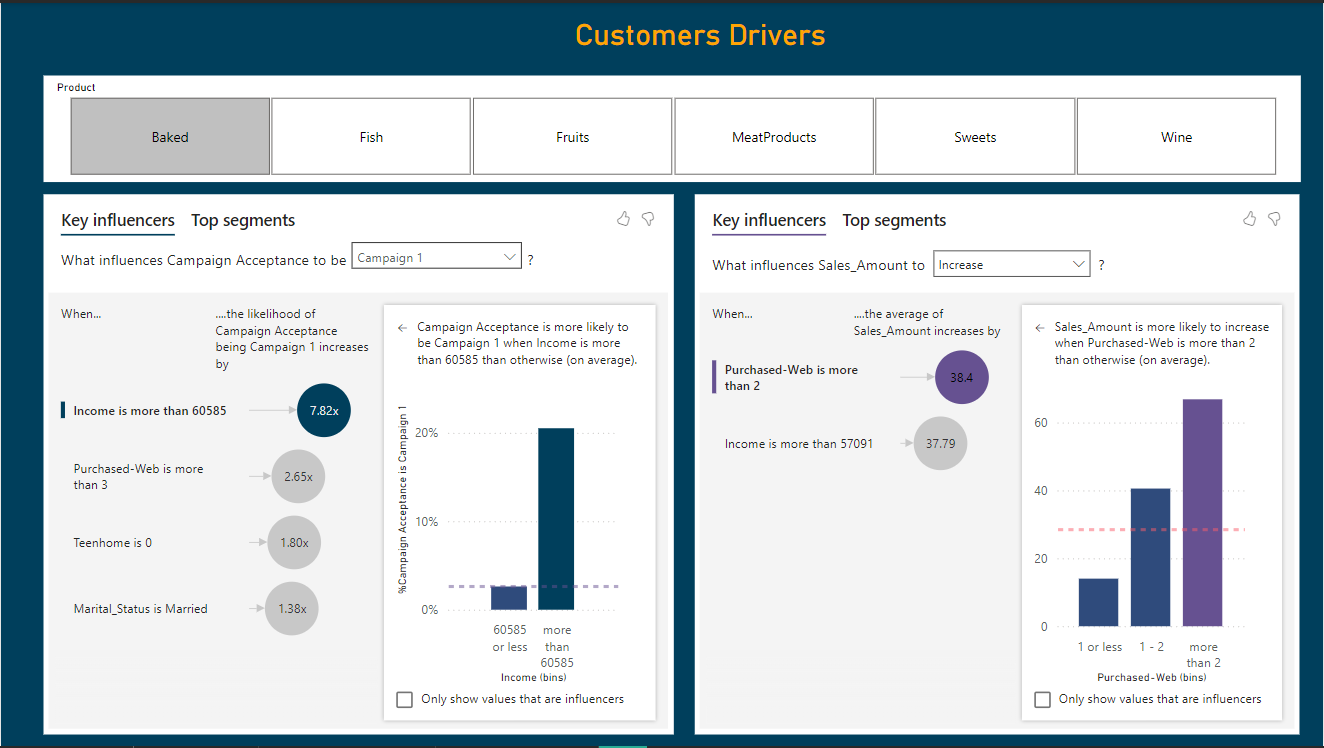

Layout of this report page (visuals, bound fields, positions):
{"tool":"powerbi","page":{"name":"Customer Drives","canvas":[1280,720],"ordinal":2},"visuals":[{"type":"keyDriversVisual","fields":{"Target":["Campaigns.Campaign"],"ExplainBy":["1 2 marketmindz_research_data.Country","1 2 marketmindz_research_data.Education","1 2 marketmindz_research_data.Marital_Status","1 2 marketmindz_research_data.Teenhome","1 2 marketmindz_research_data. Income ","1 2 marketmindz_research_data.Purchased-Web","Sum(1 2 marketmindz_research_data.Age)"]},"box":[41.2,185.2,610.1,522.9],"z":0},{"type":"keyDriversVisual","fields":{"ExplainBy":["1 2 marketmindz_research_data.Age","1 2 marketmindz_research_data.Country","1 2 marketmindz_research_data.Education","1 2 marketmindz_research_data.Marital_Status","1 2 marketmindz_research_data.Teenhome","Products.Product","1 2 marketmindz_research_data. Income ","1 2 marketmindz_research_data.Purchased-Web"],"Target":["Products.Sales_Amount"]},"box":[671.8,185.2,585.9,522.9],"z":1000},{"type":"slicer","fields":{"Values":["Products.Product"]},"box":[41.2,70.2,1217.8,102.9],"z":2000},{"type":"textbox","box":[83.5,8.5,1187.5,44.8],"z":3000}]}

Visuals, with their boxes in screenshot pixels (x1, y1, x2, y2), scaled from the page's 1280x720 canvas onto the 1324x748 screenshot:
keyDriversVisual - Campaigns.Campaign x 1 2 marketmindz_research_data.Country: crop(43, 192, 674, 736)
keyDriversVisual - 1 2 marketmindz_research_data.Age x 1 2 marketmindz_research_data.Country: crop(695, 192, 1301, 736)
slicer - Products.Product: crop(43, 73, 1302, 180)
textbox: crop(86, 9, 1315, 55)
